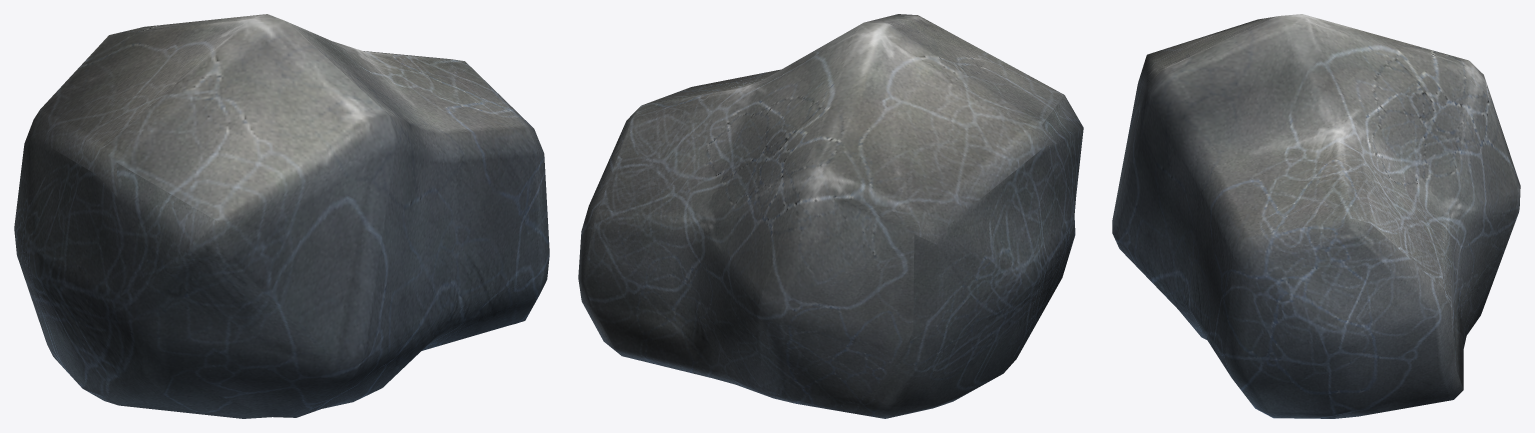
The model's file is Track_rock_01.fbx.
3 renders of one model, left to right at view 1: azimuth 30°, elevation 25°; view 2: azimuth 150°, elevation 25°; view 3: azimuth 270°, elevation 25°, orthographic. The views are drawn at different scales.
Parts seen in each view (by area): view 1: Track_rock_01; view 2: Track_rock_01; view 3: Track_rock_01.
Boxes of the visible parts, <box> form: Track_rock_01: <box>14,14,549,418</box>; Track_rock_01: <box>578,14,1083,418</box>; Track_rock_01: <box>1112,14,1520,418</box>.
Bounding box in the file's own units: 45.04 × 31.04 × 38.08.
